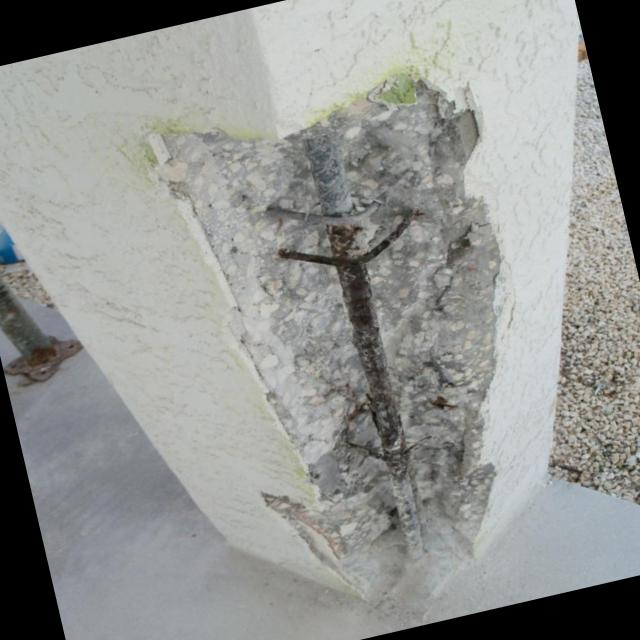spalling: (152, 71, 499, 601)
